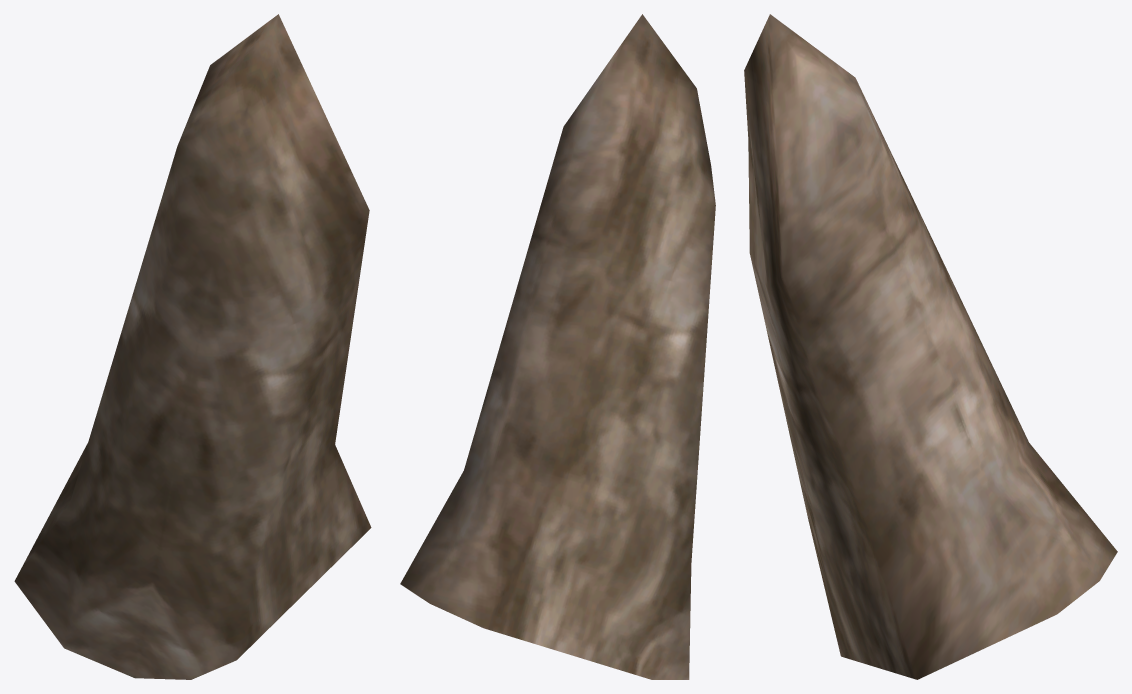
The model's file is OVERHILL_A_01_ROCK39.fbx.
3 renders of one model, left to right at view 1: azimuth 30°, elevation 25°; view 2: azimuth 150°, elevation 25°; view 3: azimuth 270°, elevation 25°, orthographic. The views are drawn at different scales.
Parts seen in each view (by area): view 1: OVERHILL_A_01_ROCK39; view 2: OVERHILL_A_01_ROCK39; view 3: OVERHILL_A_01_ROCK39.
Part boxes in pixels (<box>): OVERHILL_A_01_ROCK39: <box>14,14,371,679</box>; OVERHILL_A_01_ROCK39: <box>400,14,715,679</box>; OVERHILL_A_01_ROCK39: <box>744,14,1117,679</box>.
Bounding box in the file's own units: 40513 × 85761 × 44506.
Materials: 1 (1 with a texture image).
